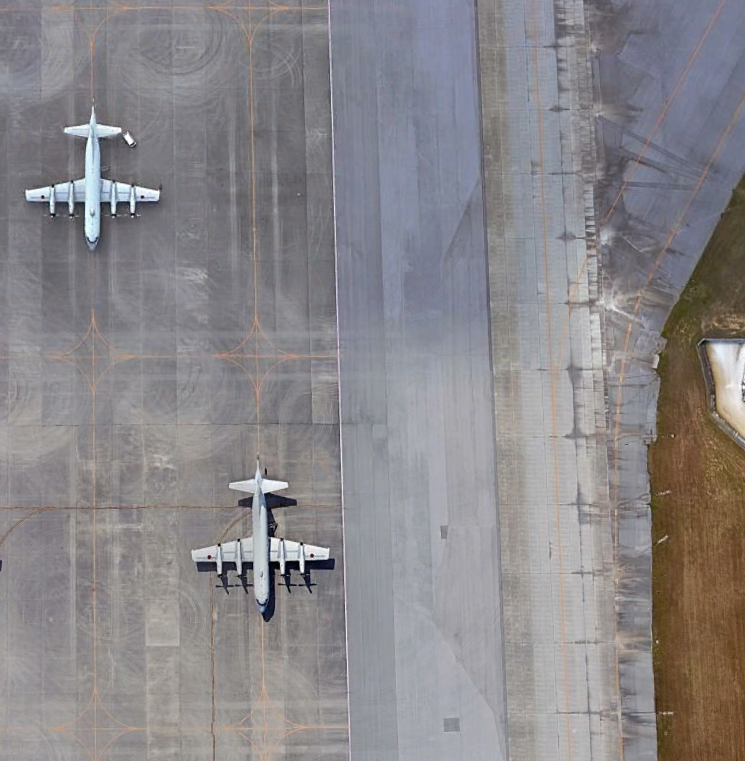A9: (187, 442, 338, 624), (17, 88, 168, 256)
